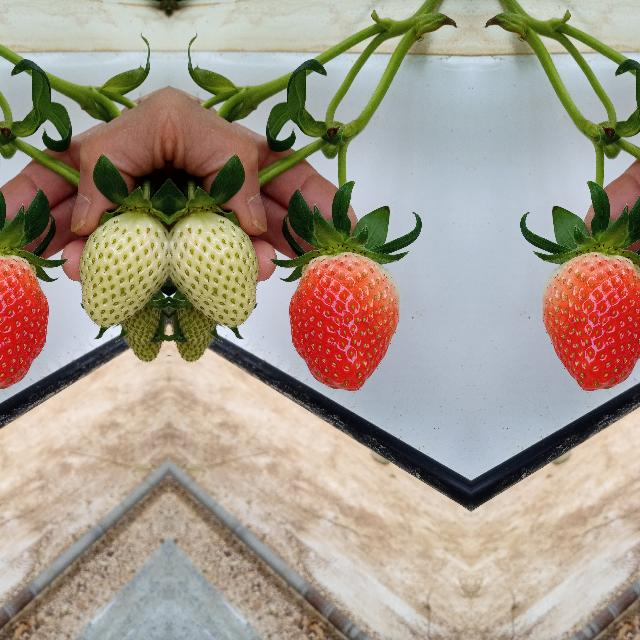Health_100: (288, 252, 400, 392), (541, 251, 640, 392), (0, 251, 48, 392)
Health_25: (168, 193, 258, 333), (78, 193, 168, 333)
